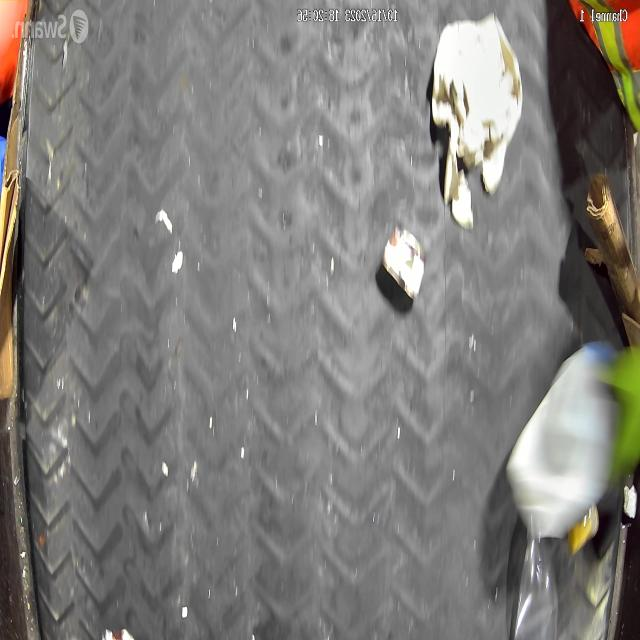can: (382, 227, 427, 300)
milk_jug: (505, 338, 615, 536)
